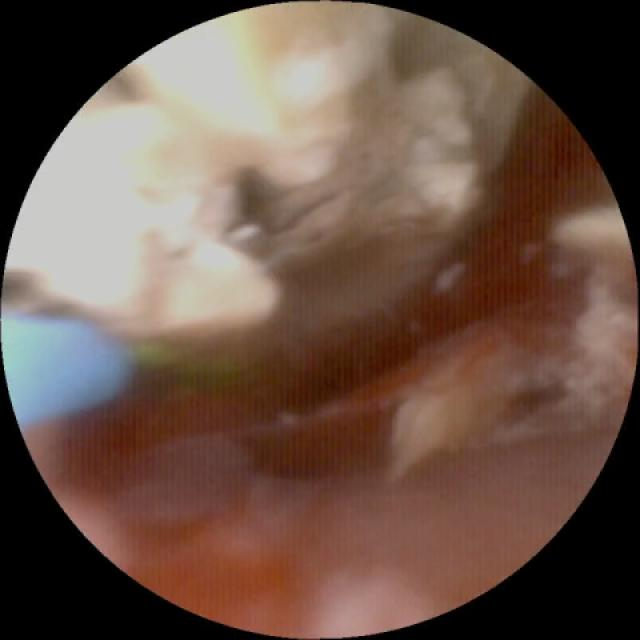fiber: (5, 321, 125, 423)
stone: (9, 9, 525, 353), (392, 323, 520, 476), (552, 208, 629, 258)
tissue: (56, 110, 610, 617), (524, 260, 631, 417)
